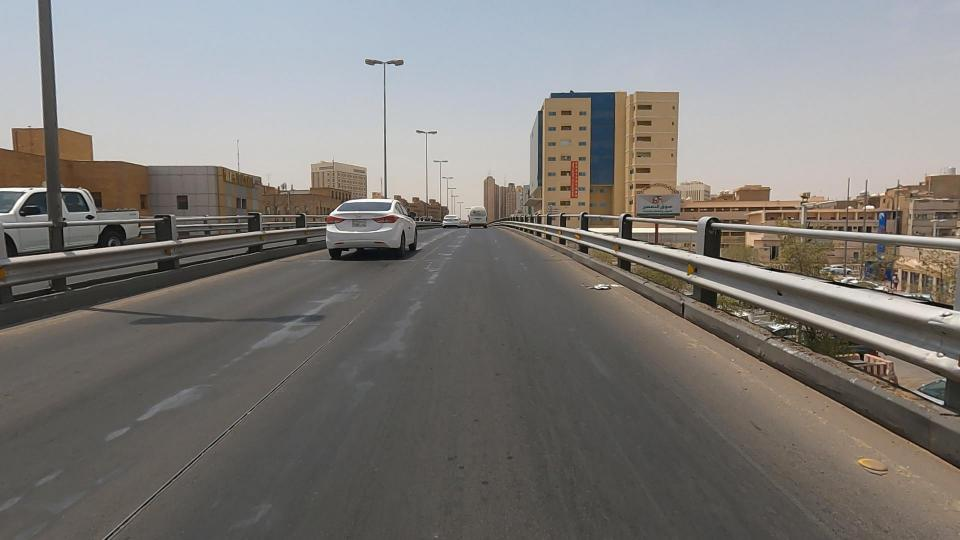GARBAGE: (558, 262, 649, 312)
